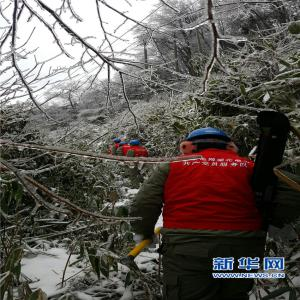blue: (185, 129, 233, 153), (130, 140, 141, 148), (119, 142, 129, 148), (114, 139, 122, 145)
